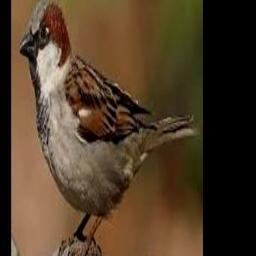Sparrow: (19, 0, 200, 256)
